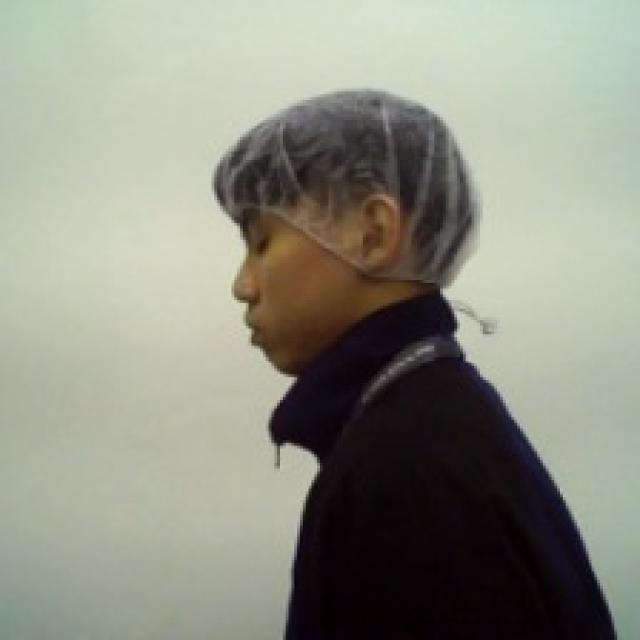gloves: (211, 83, 486, 284)
no_hairnet: (227, 188, 416, 380)
